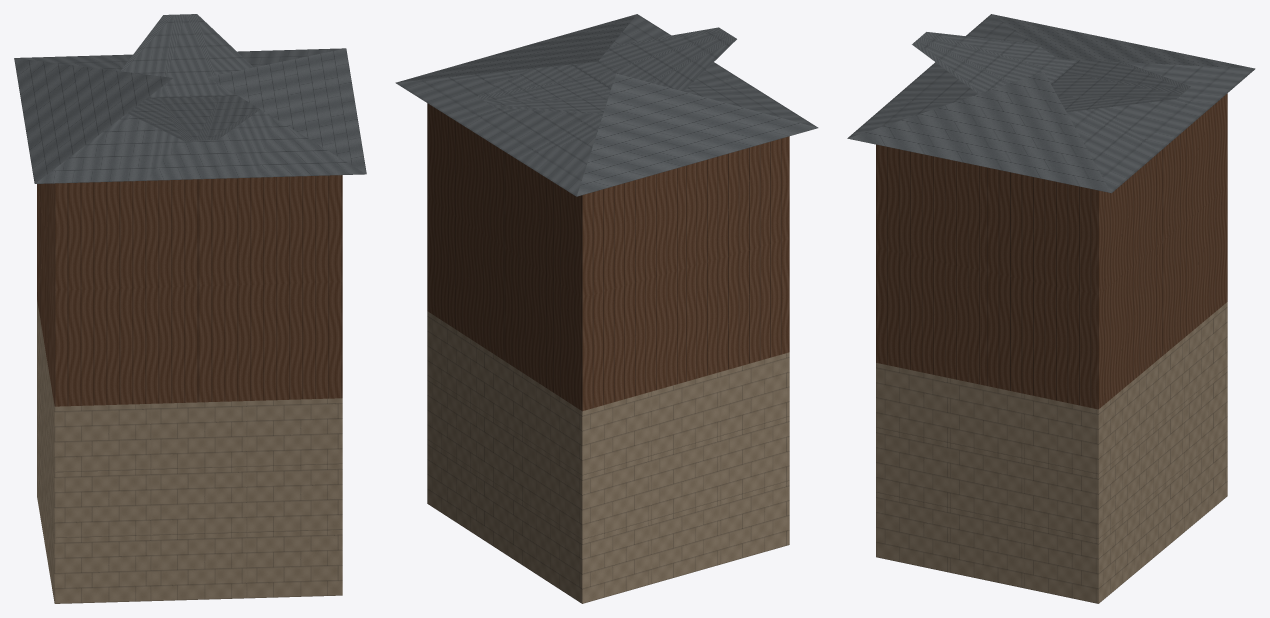
File: bld_c0_-2_549.gltf
3 views of the same model, side by side, from view 1: azimuth 30°, elevation 25°; view 2: azimuth 150°, elevation 25°; view 3: azimuth 270°, elevation 25° (orthographic). The views are drawn at different scales.
Parts seen in each view (by area): view 1: bld_c0_-2_549; view 2: bld_c0_-2_549; view 3: bld_c0_-2_549.
Boxes of the visible parts, x1,y1,x2,y2 form: bld_c0_-2_549: (14,14,366,603); bld_c0_-2_549: (395,14,818,603); bld_c0_-2_549: (847,14,1255,603).
Size of the model in its own units: 10.08 by 12.1 by 9.72.
3 materials, 3 textured.
